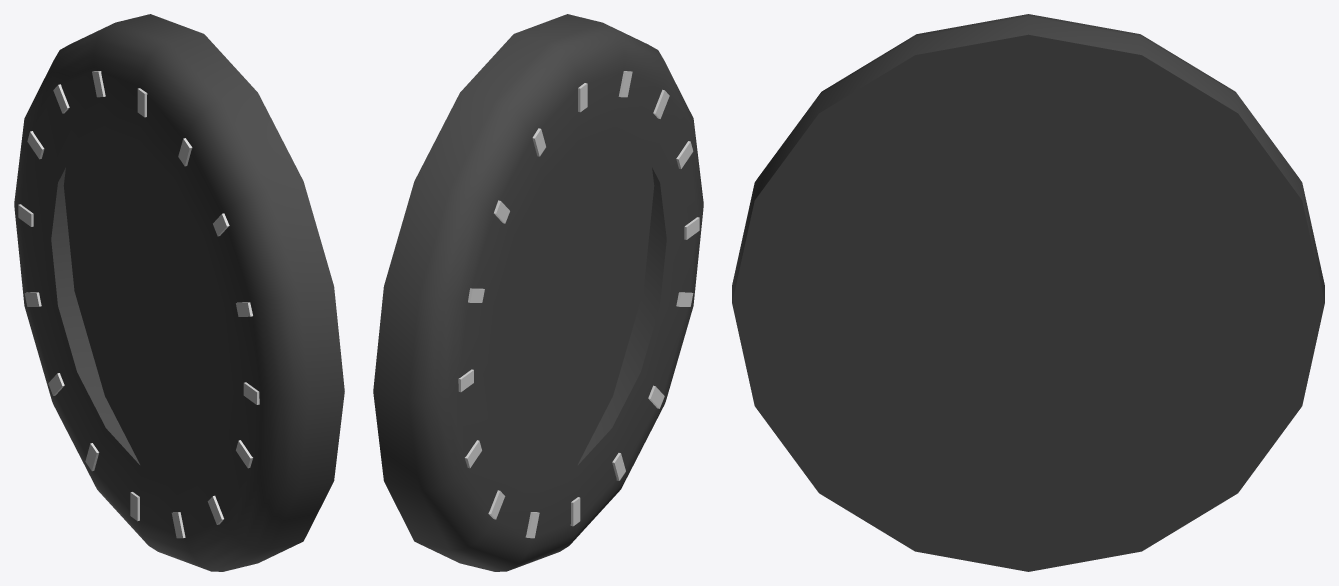
Rendered from Oven Dial 1.fbx.
3 renders of one model, left to right at view 1: azimuth 30°, elevation 25°; view 2: azimuth 150°, elevation 25°; view 3: azimuth 270°, elevation 25°, orthographic. The views are drawn at different scales.
Visible parts, largest first — view 1: Oven Dial 1; view 2: Oven Dial 1; view 3: Oven Dial 1.
Part boxes in pixels (x1,y1,x2,y2): Oven Dial 1: [14, 14, 344, 571]; Oven Dial 1: [373, 14, 703, 571]; Oven Dial 1: [732, 14, 1324, 571].
Bounding box in the file's own units: 0.7902 × 5.76 × 5.76.
